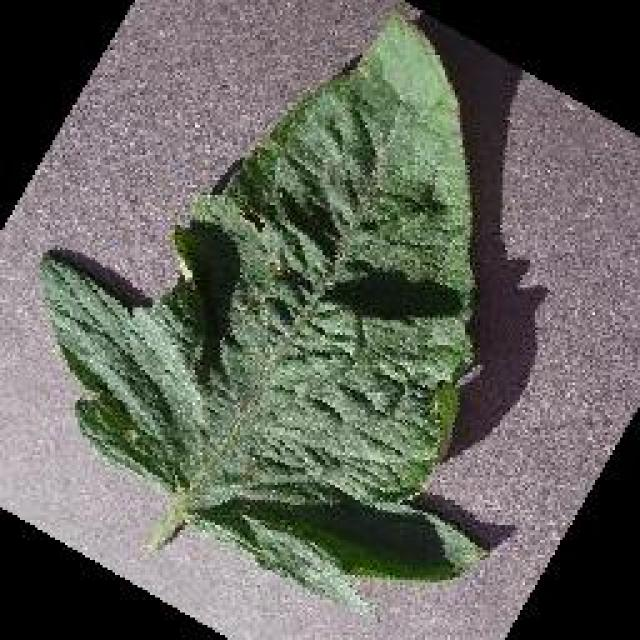Tomato___Target_Spot: (42, 18, 478, 605)
